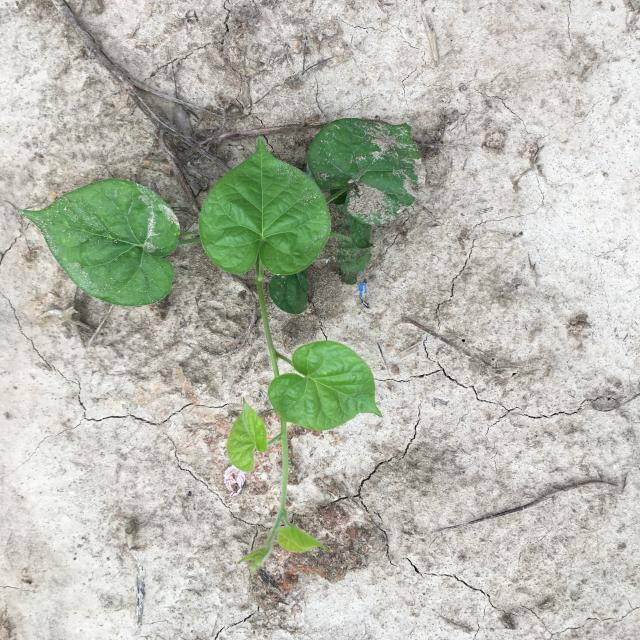MorningGlory: (16, 118, 424, 572)
